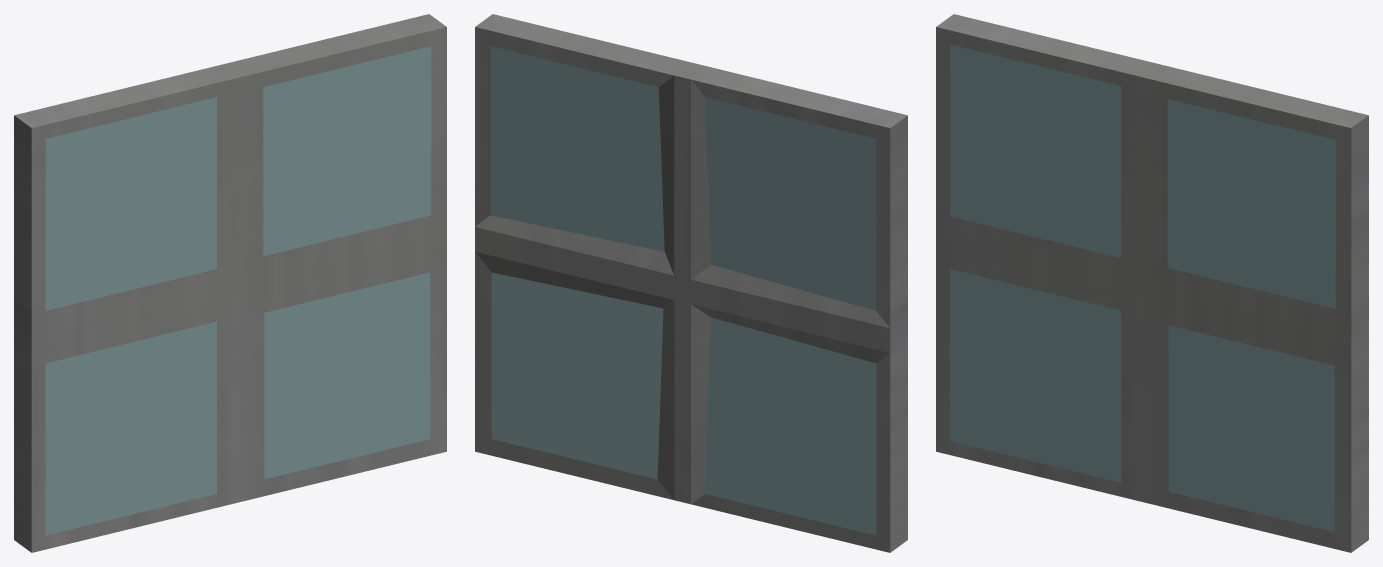
The model's file is windowWTextures.fbx.
The picture shows the model from 3 angles, left to right: view 1: azimuth 30°, elevation 25°; view 2: azimuth 150°, elevation 25°; view 3: azimuth 330°, elevation 25°; orthographic projection.
Parts seen in each view (by area): view 1: pCube1; view 2: pCube1; view 3: pCube1.
Boxes of the visible parts, bbox=[...] form: pCube1: bbox=[14, 14, 446, 552]; pCube1: bbox=[475, 14, 907, 552]; pCube1: bbox=[936, 14, 1368, 552].
Bounding box in the file's own units: 109 × 106 × 8.04.
2 materials, 1 textured.
